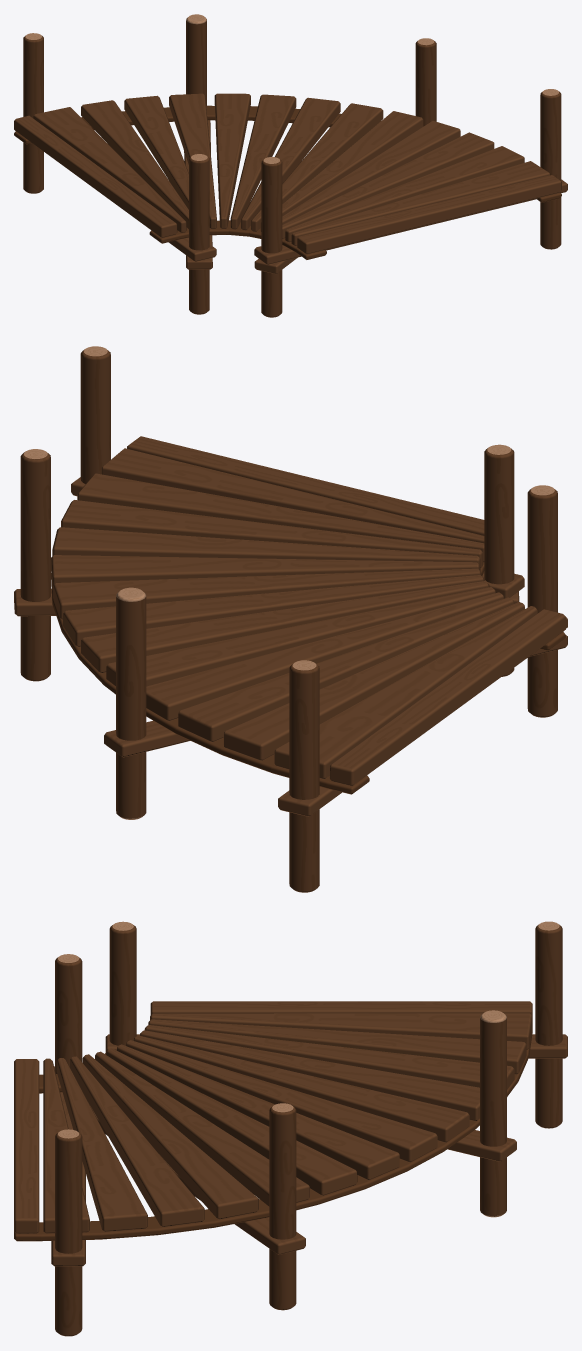
The model's file is M_Wide_Turn.fbx.
3 views of the same model, one above another, from view 1: azimuth 30°, elevation 25°; view 2: azimuth 150°, elevation 25°; view 3: azimuth 270°, elevation 25° (orthographic). The views are drawn at different scales.
Parts seen in each view (by area): view 1: M_Wide_Turn; view 2: M_Wide_Turn; view 3: M_Wide_Turn.
Part boxes in pixels (x1,y1,x2,y2): M_Wide_Turn: (14, 14, 567, 317); M_Wide_Turn: (14, 346, 567, 892); M_Wide_Turn: (14, 921, 567, 1336).
Size of the model in its own units: 1006 by 400 by 1015.
